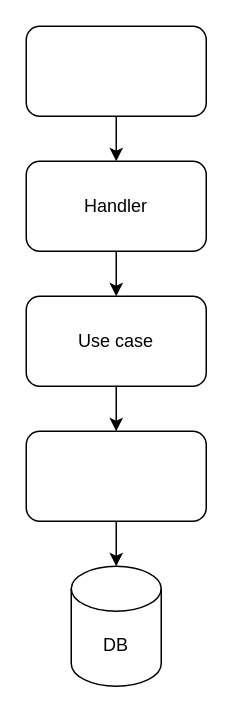
The diagram is 233 pixels wide and 713 high, and some of its shapes have lost their labels. The shapes that lost their labels are listed below. From the top down, each one's box as (x1, y1, x2, y2) in pixels, then its label:
(25, 25, 206, 116): Domain
(25, 430, 206, 521): Repository
